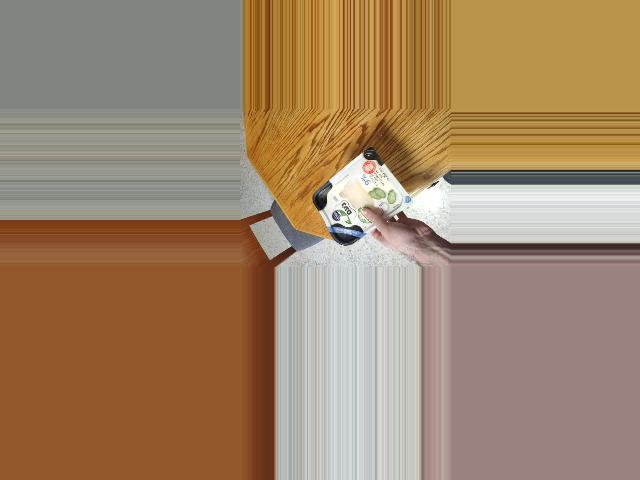cheese: (312, 155, 396, 248)
